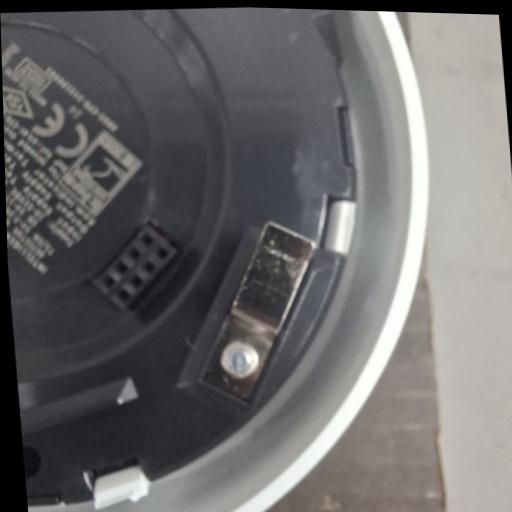yaysiz: (191, 216, 327, 408)
